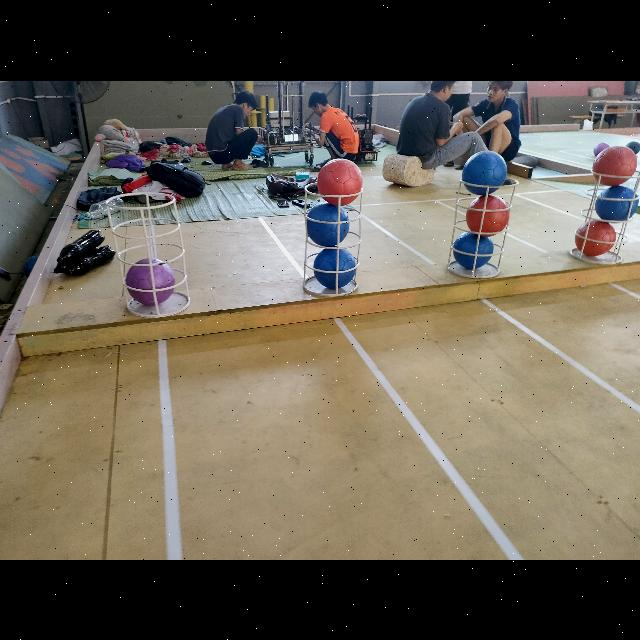B: (461, 150, 507, 194), (306, 205, 349, 247), (313, 248, 357, 286), (454, 230, 494, 270), (594, 185, 638, 221)
R: (317, 157, 363, 203), (466, 195, 510, 235), (592, 145, 636, 183), (574, 218, 616, 256)
